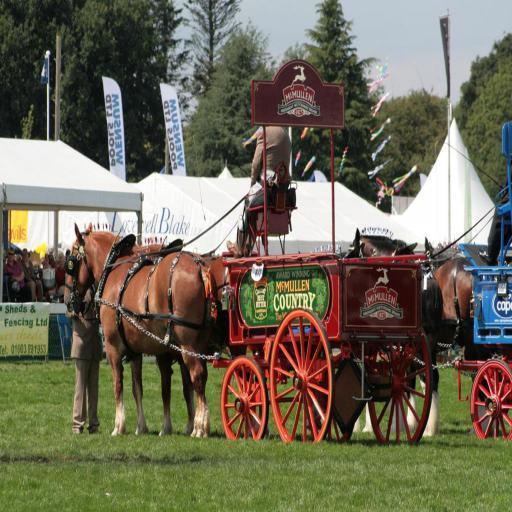horse: (62, 222, 218, 440), (148, 241, 264, 437), (349, 225, 445, 441), (433, 257, 501, 434), (420, 236, 455, 271)
